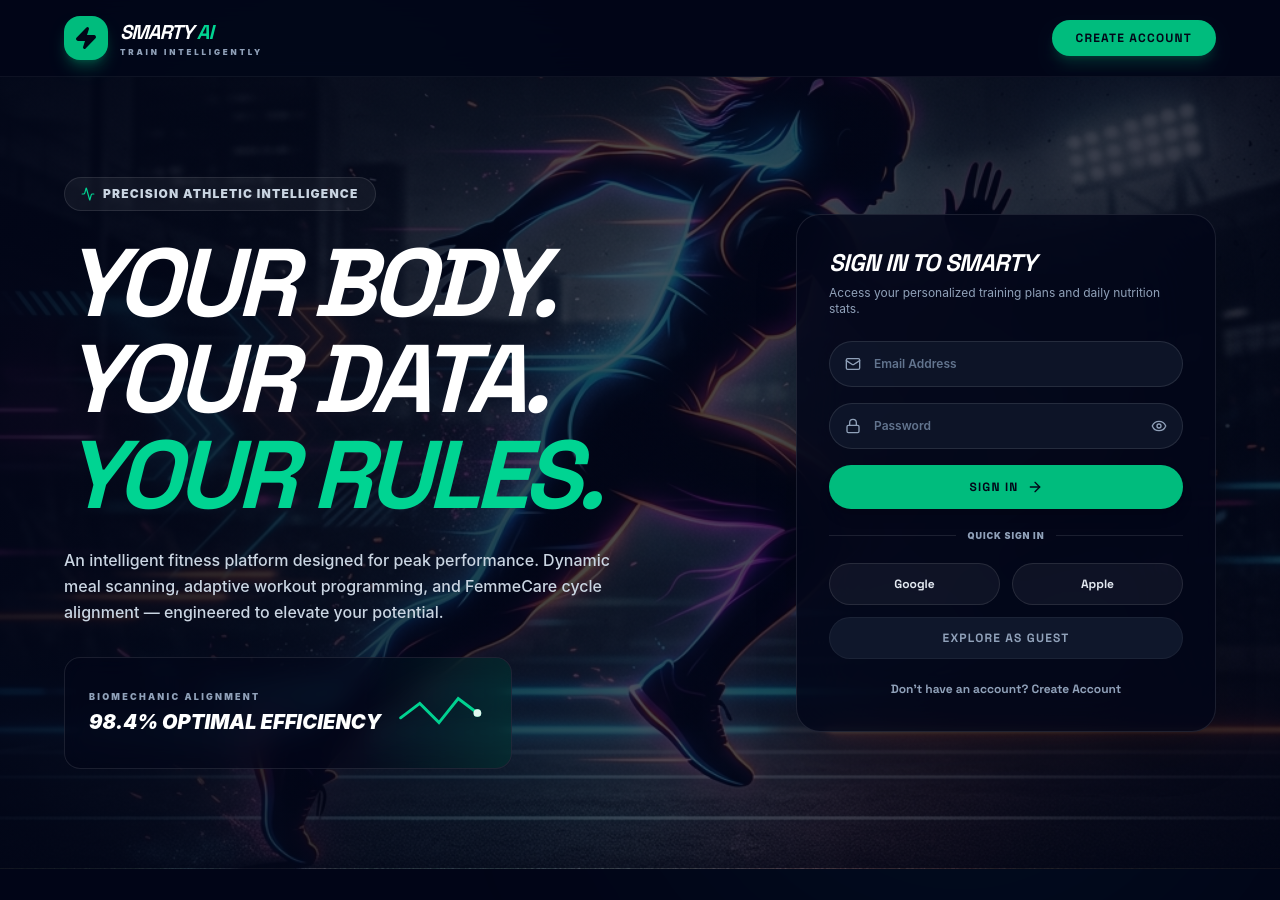
LoginPage Component › shows an error when login fails
The width and height of the screenshot is (1280, 900).
Step 1. Type "bad@example.com" into the field with placeholder "Email Address" → x=1006, y=364, box [829,341,1183,387]
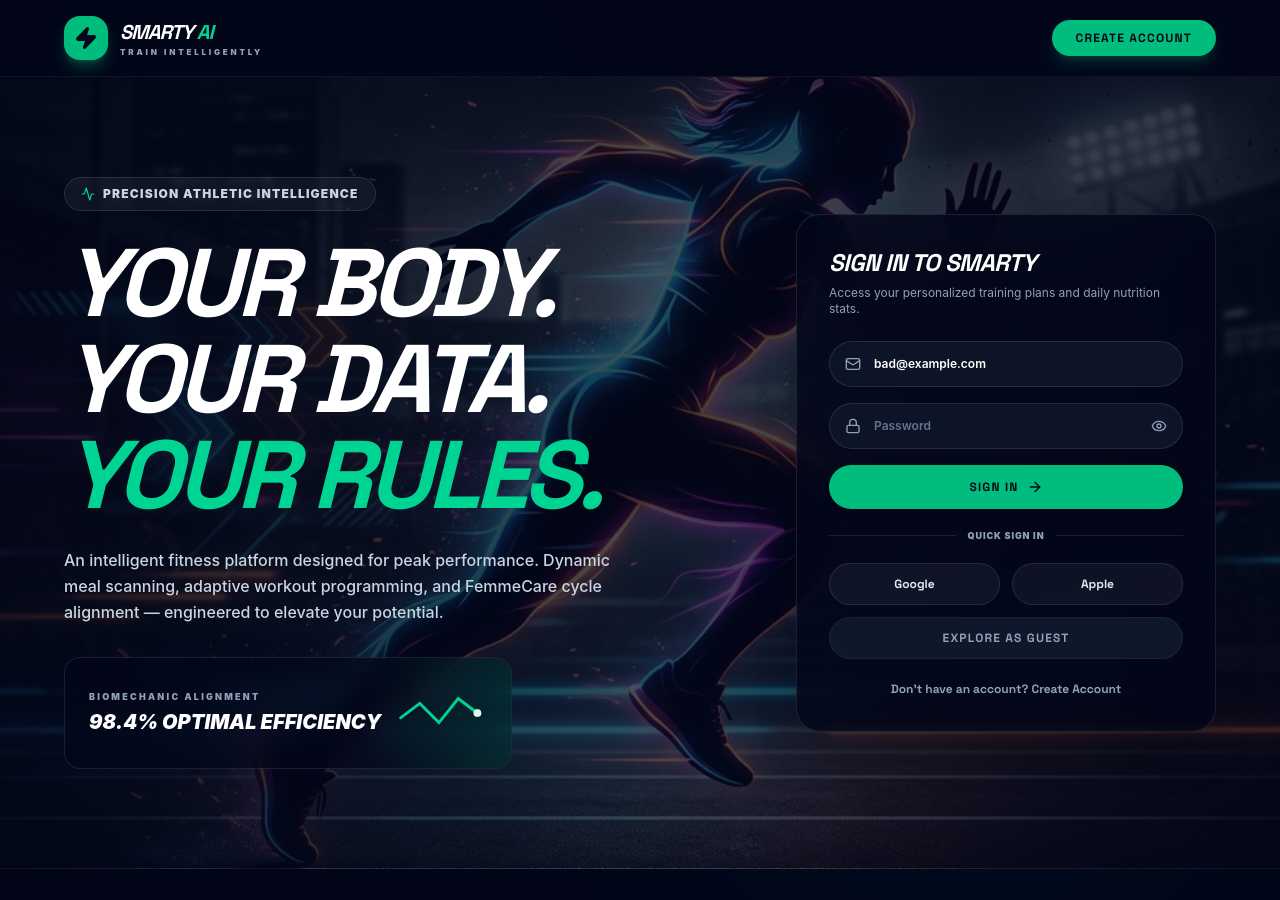
Step 2. Type "wrongpass" into the password field with placeholder "Password" → x=1006, y=426, box [829,403,1183,449]
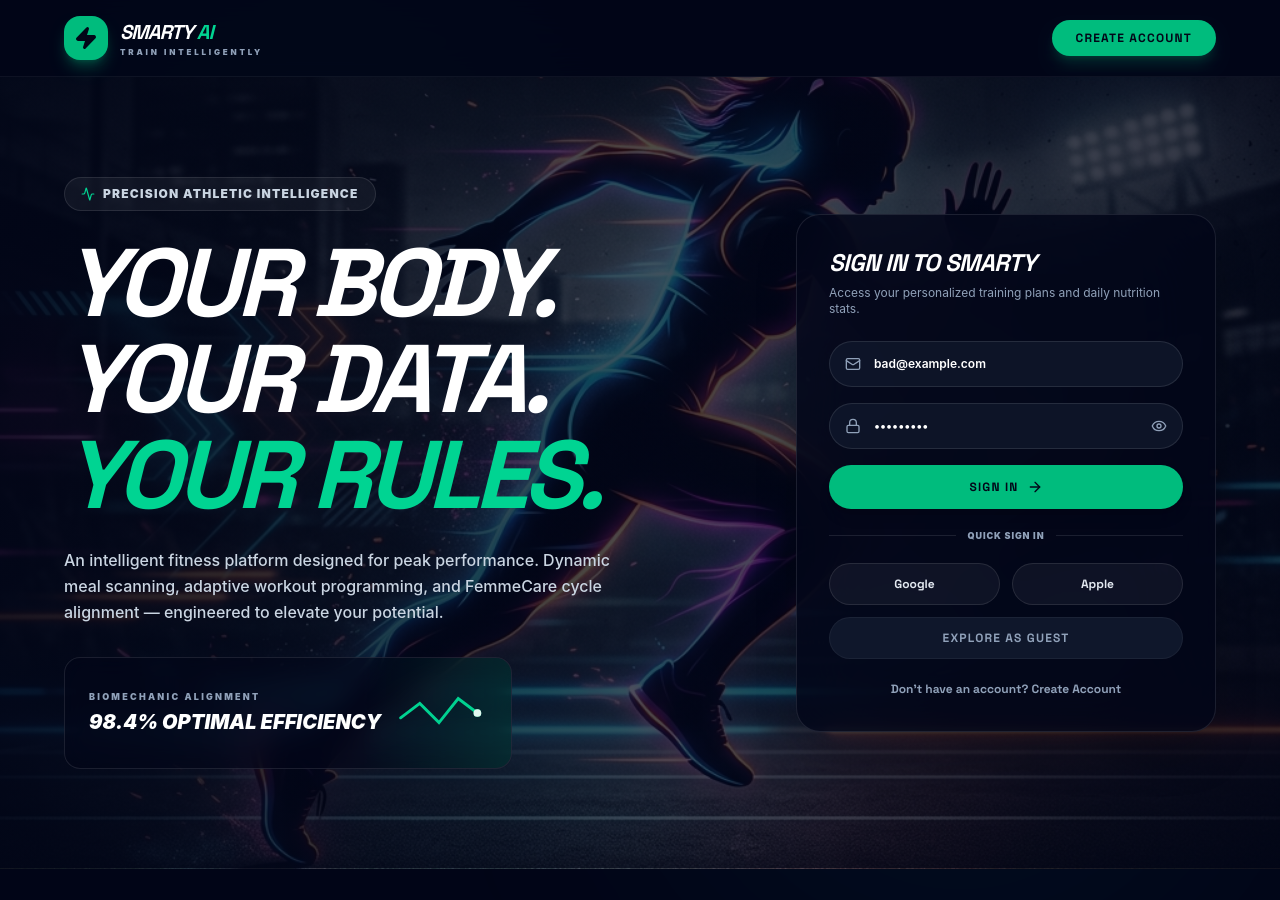
Step 3. Click the button "Sign In" → x=1006, y=487, box [829,465,1183,509]
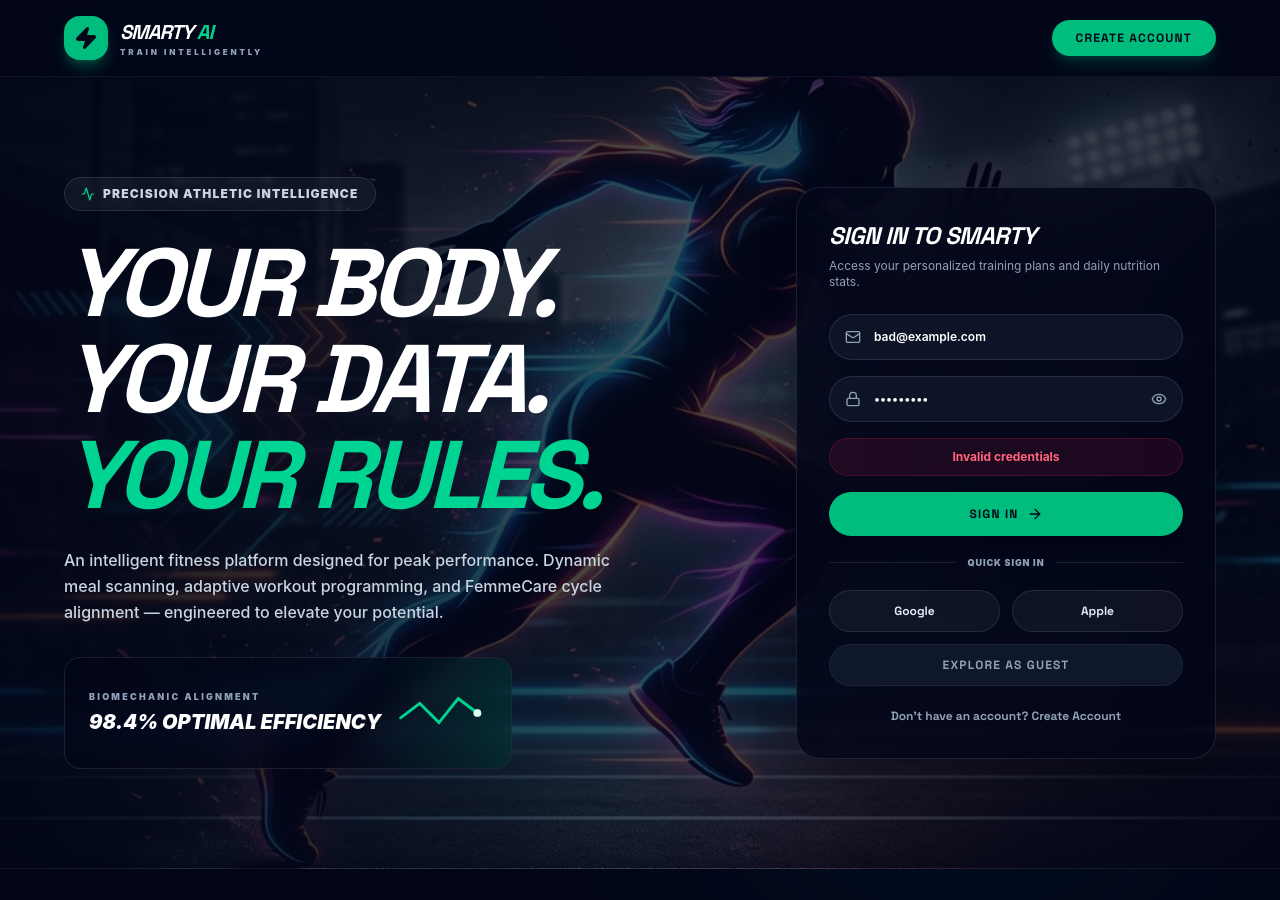
Expected: the text "Invalid credentials" is shown, [829,438,1183,476]
